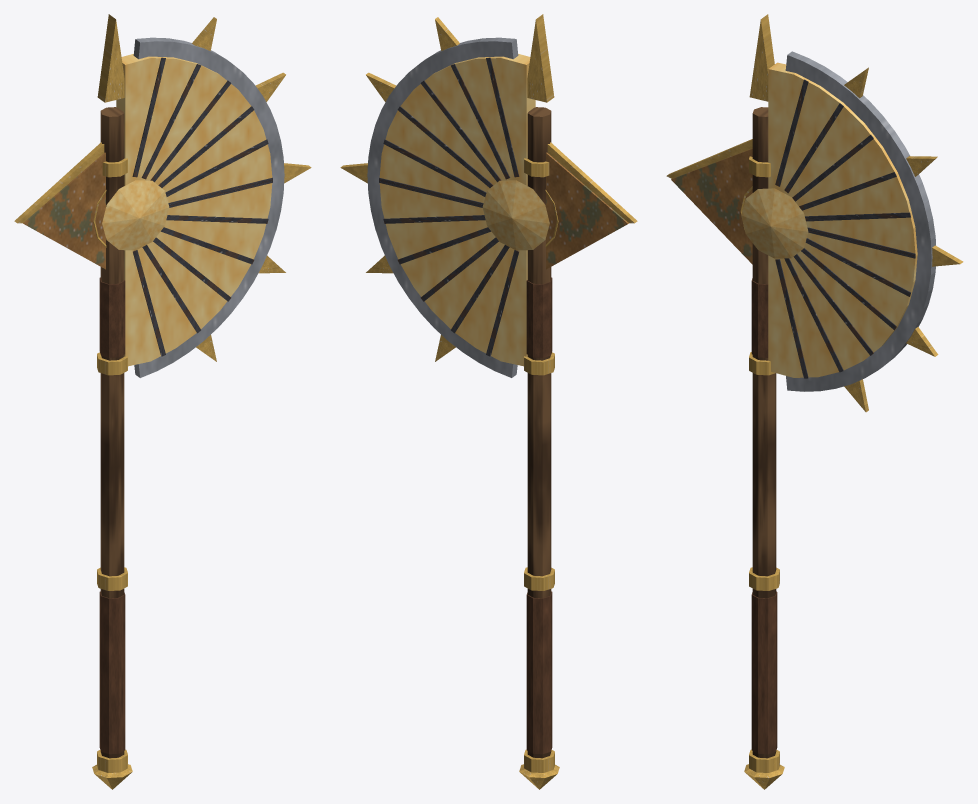
The model's file is dayreaver.obj.
3 renders of one model, left to right at view 1: azimuth 30°, elevation 25°; view 2: azimuth 150°, elevation 25°; view 3: azimuth 330°, elevation 25°, orthographic.
Parts seen in each view (by area): view 1: dayreaver; view 2: dayreaver; view 3: dayreaver.
Part boxes in pixels (x1=…): dayreaver: x1=14, y1=14, x2=311, y2=789; dayreaver: x1=340, y1=14, x2=637, y2=789; dayreaver: x1=666, y1=14, x2=963, y2=789.
Bounding box in the file's own units: 1.31 × 3.29 × 0.1626.
